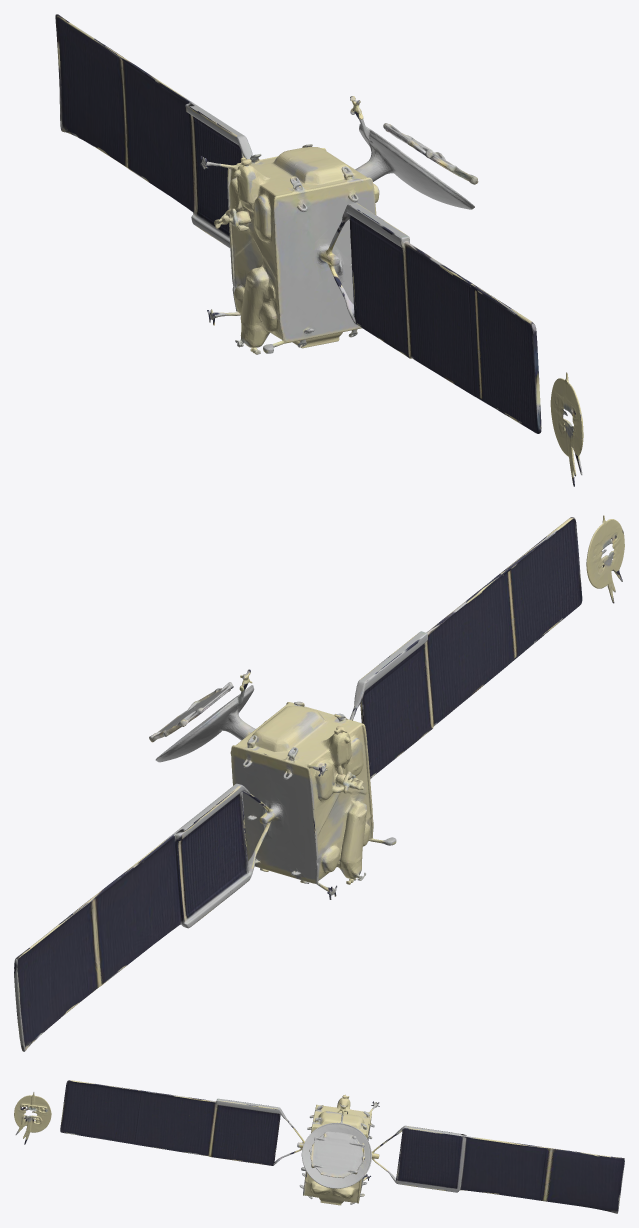
The model's file is turksat-1A.glb.
3 renders of one model, top to bottom at view 1: azimuth 30°, elevation 25°; view 2: azimuth 150°, elevation 25°; view 3: azimuth 270°, elevation 25°, orthographic. The views are drawn at different scales.
Visible parts, largest first — view 1: tripo_node_ec41a59a-275f-48df-8e55-fe849a3937dd; view 2: tripo_node_ec41a59a-275f-48df-8e55-fe849a3937dd; view 3: tripo_node_ec41a59a-275f-48df-8e55-fe849a3937dd.
Part boxes in pixels (<box>): tripo_node_ec41a59a-275f-48df-8e55-fe849a3937dd: <box>55,14,583,486</box>; tripo_node_ec41a59a-275f-48df-8e55-fe849a3937dd: <box>14,515,624,1051</box>; tripo_node_ec41a59a-275f-48df-8e55-fe849a3937dd: <box>14,1080,624,1213</box>.
Bounding box in the file's own units: 0.2282 × 0.2069 × 1.
1 material, 1 textured.
